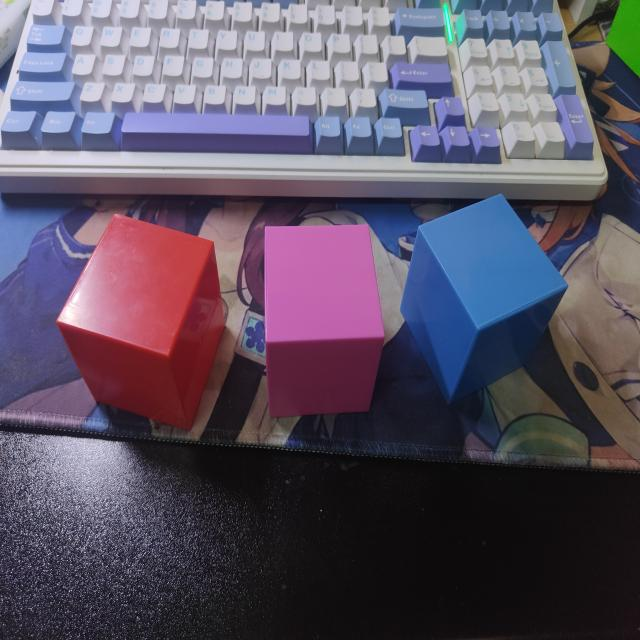blue: (398, 193, 570, 407)
pink: (263, 224, 386, 420)
red: (53, 209, 227, 432)
